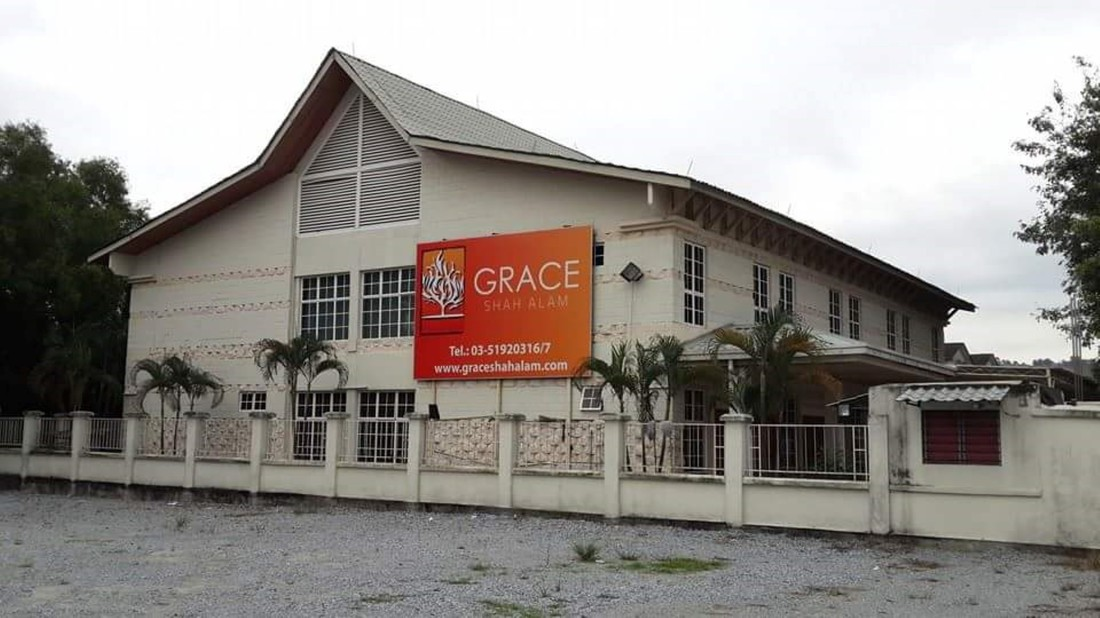Church: (108, 34, 964, 494)
